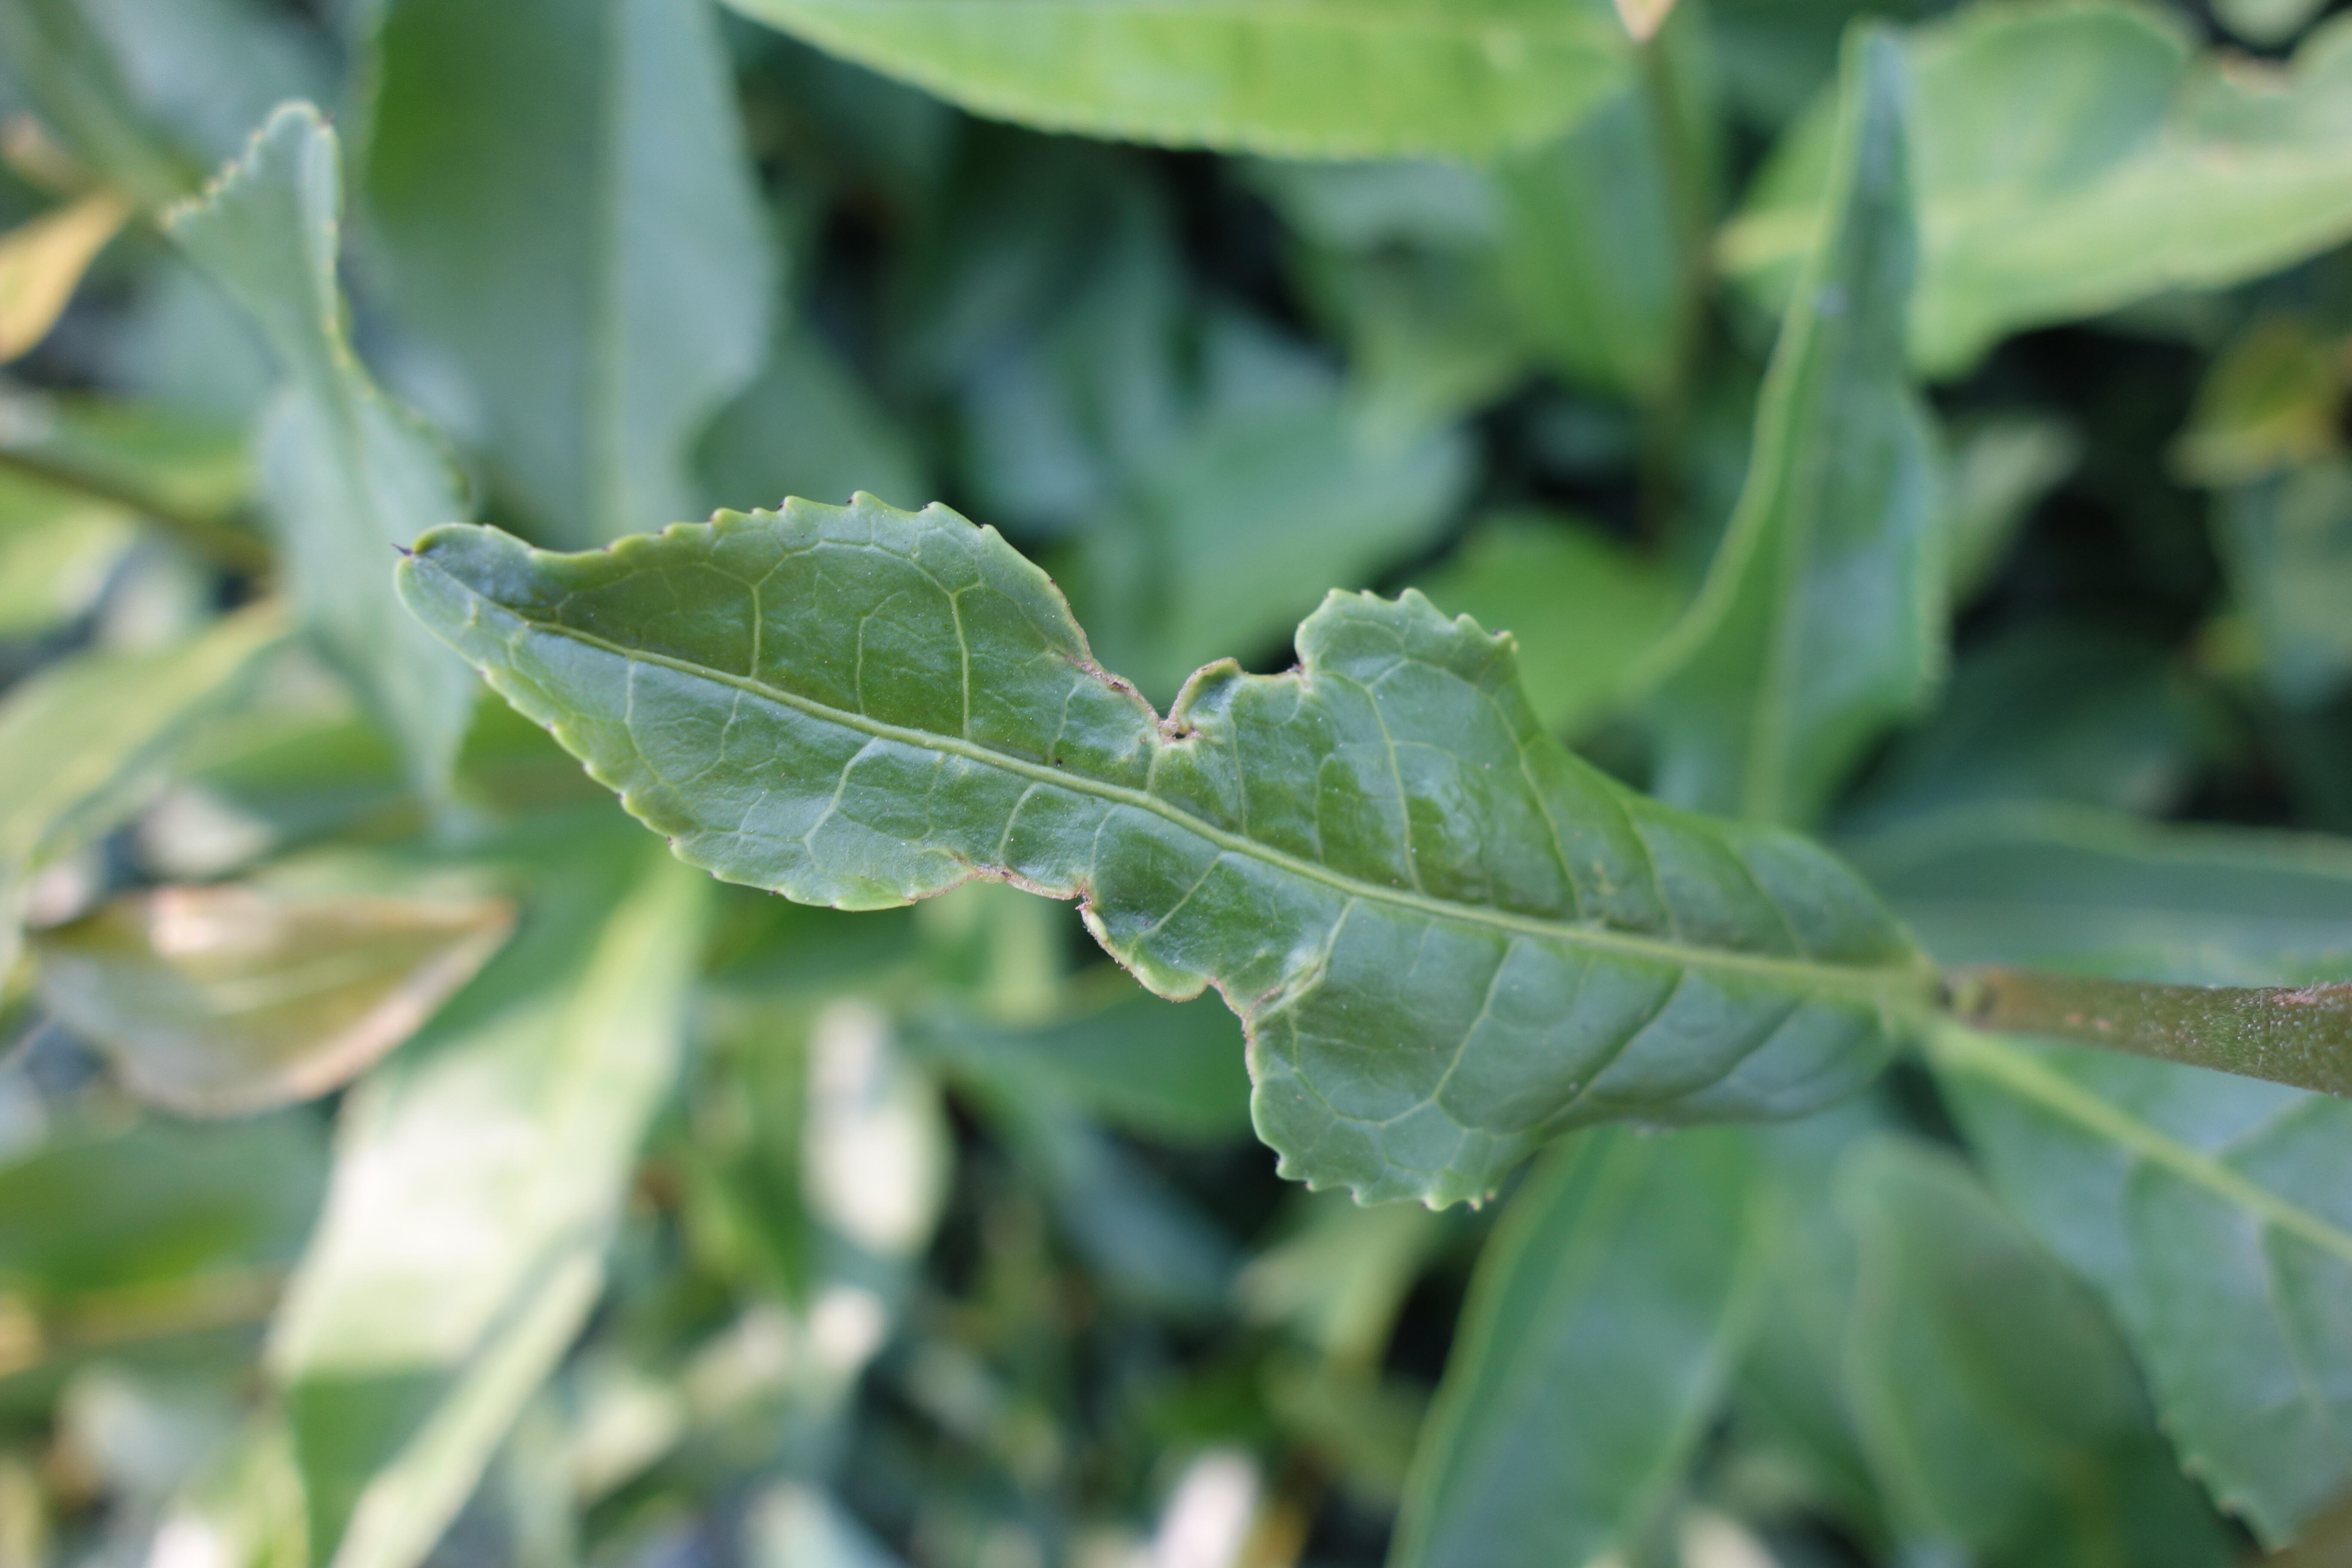chihuo_high: (385, 488, 1949, 1213)
